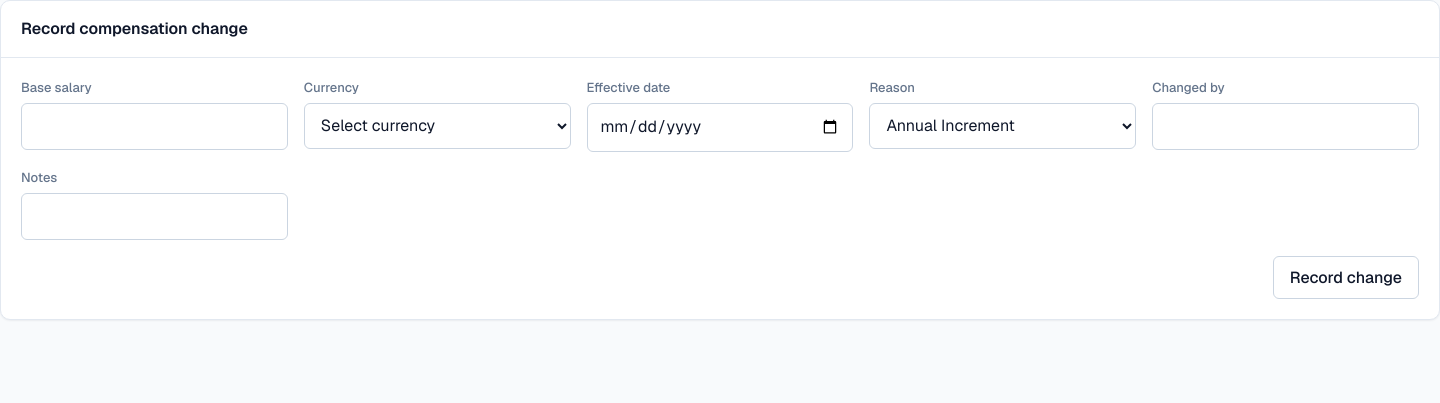
Scenario: RecordCompensationChangeForm › shows a generic submit error for non-error rejections
The image size is (1440, 403).
Type "140000" into the number field labelled "Base salary".
click(154, 126); type("140000")  # box [21,103,288,150]
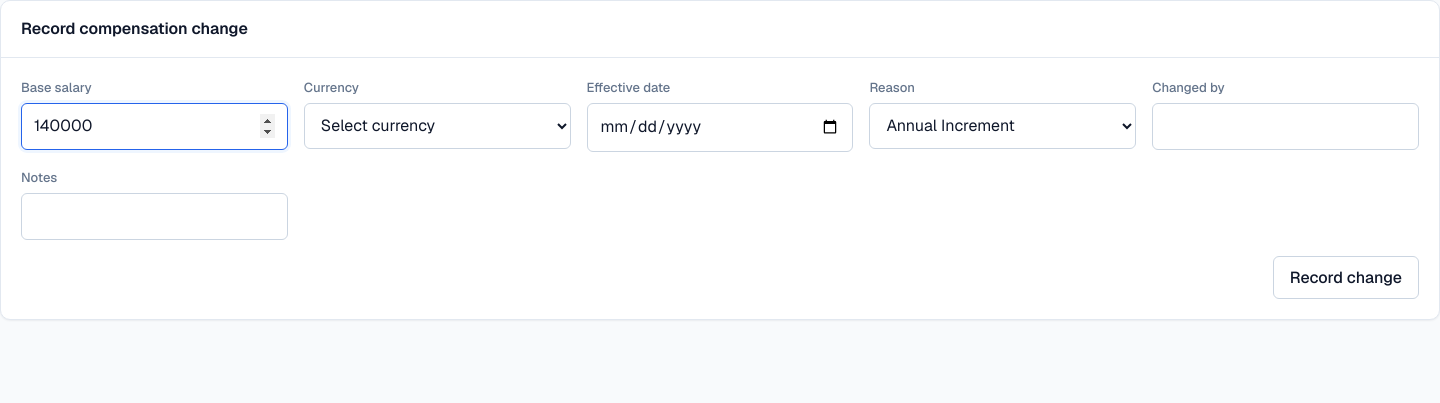
Select "USD" in the dropdown labelled "Currency" at x=437, y=126, box [304,103,571,149]
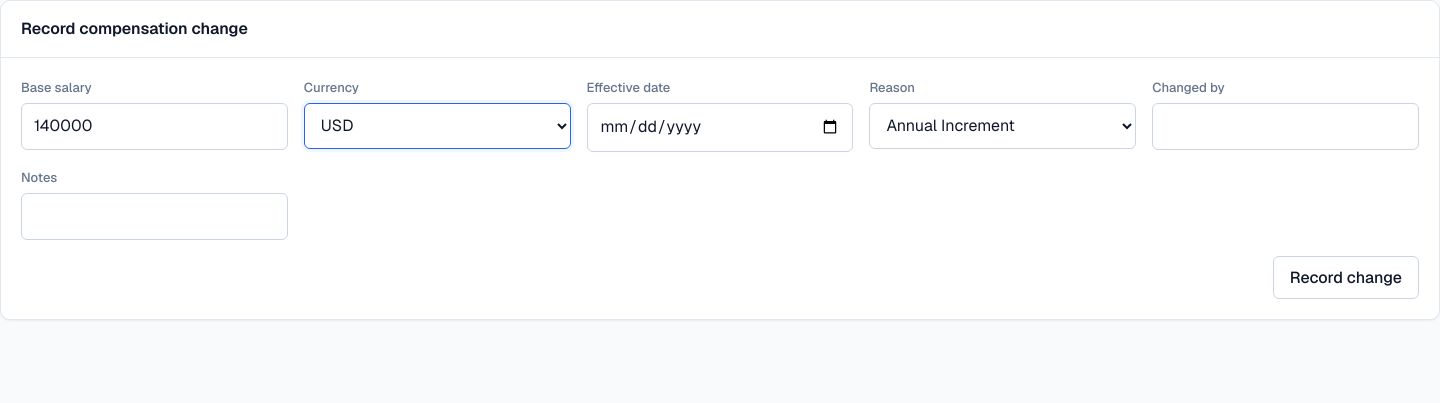
Type "2026-06-01" into the date field labelled "Effective date".
click(720, 128); type("2026-06-01")  # box [587,103,853,152]
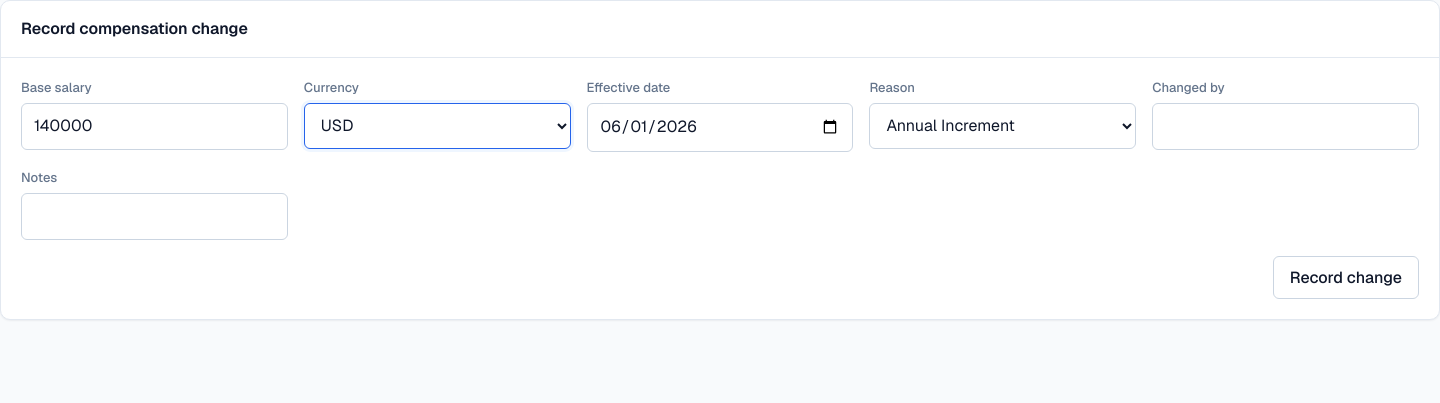
Select "Annual Increment" in the dropdown labelled "Reason" at x=1003, y=126, box [869,103,1136,149]
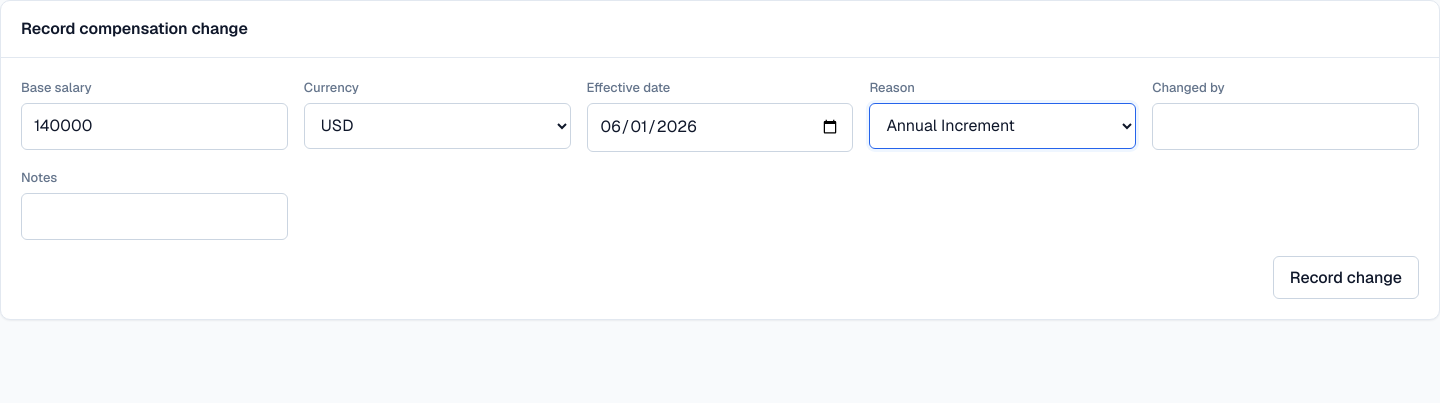
Type "HR Admin" into the field labelled "Changed by".
click(1286, 126); type("HR Admin")  # box [1152,103,1419,150]
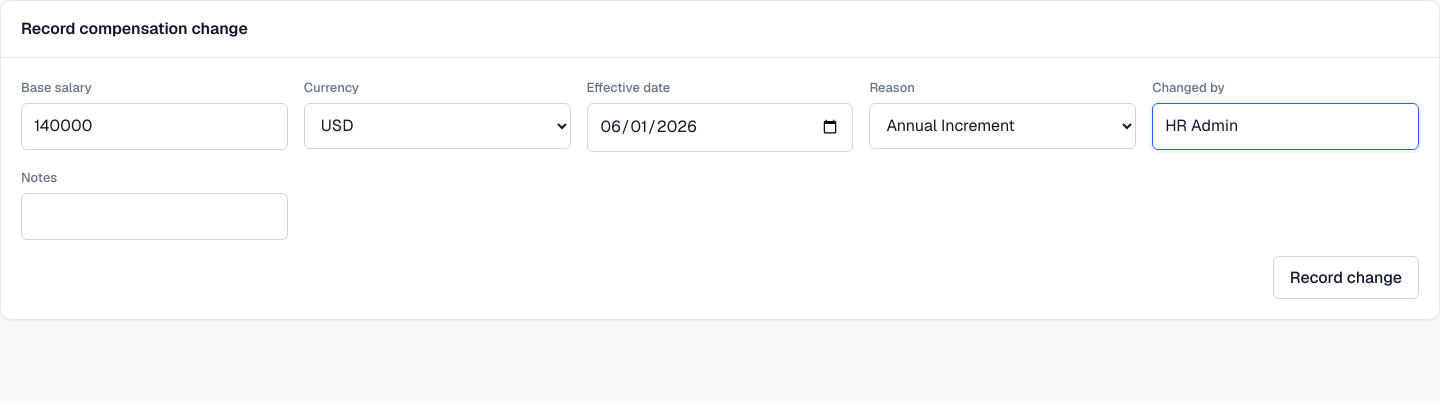
Submit the form, box [21,78,1419,299]
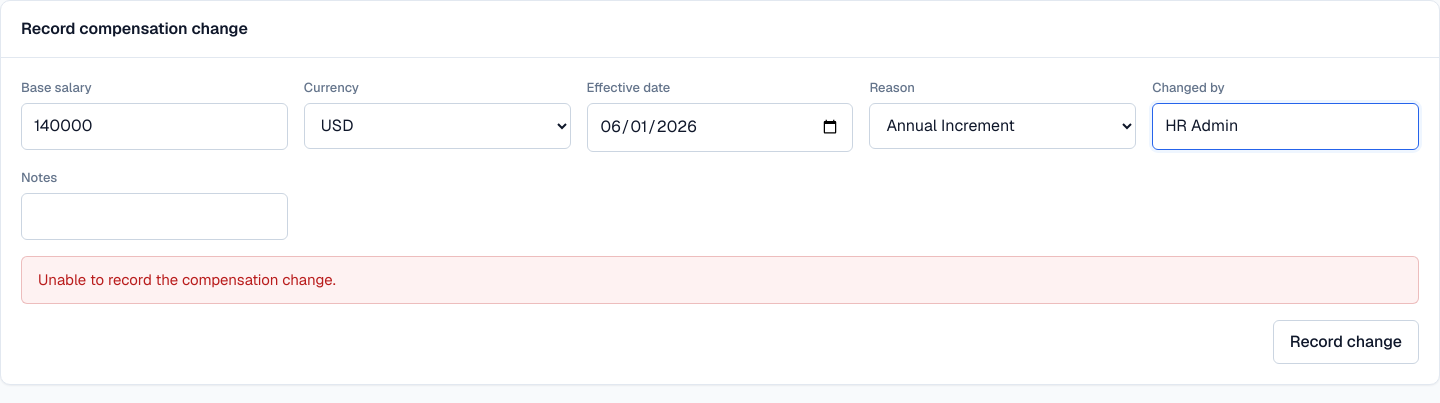
Result: the text "Unable to record the compensation change." is shown at [21,256,1419,304]
